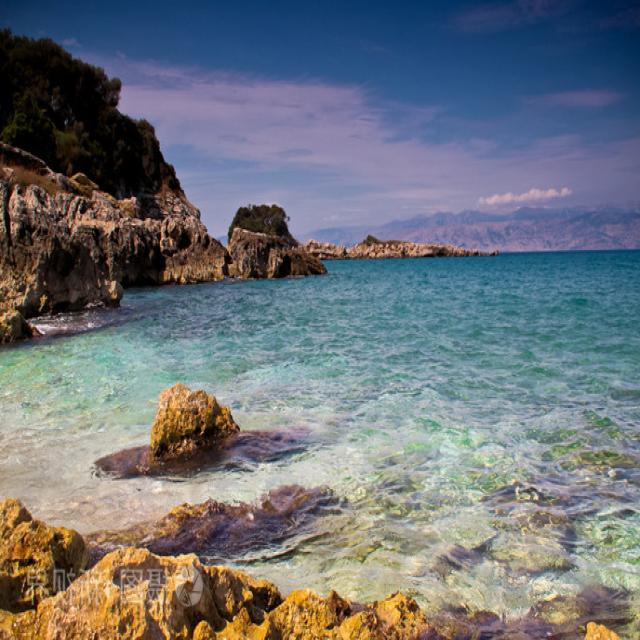reef: (172, 222, 466, 298), (128, 340, 236, 496)
